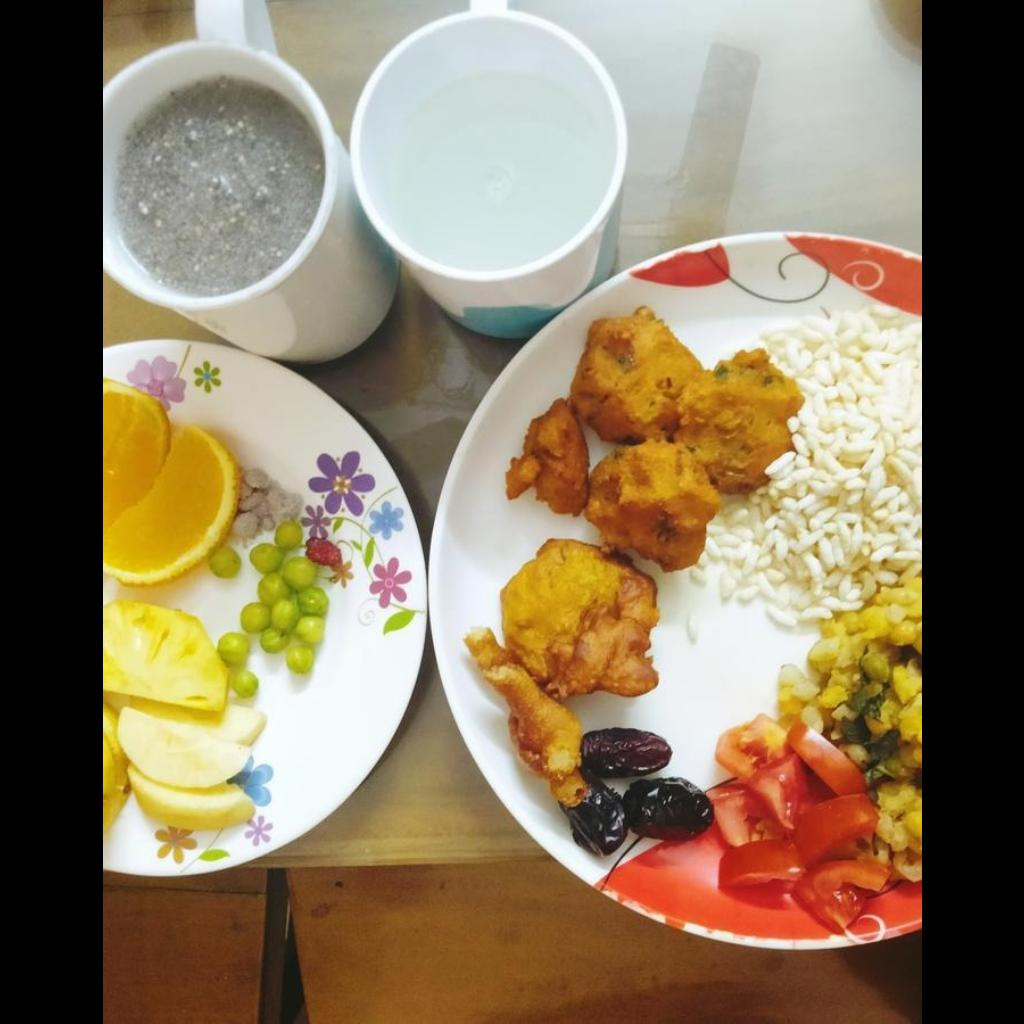apple: (102, 704, 256, 836)
chop-alu: (462, 535, 656, 810)
daal: (778, 576, 920, 878)
dates: (562, 728, 706, 856)
green-pea: (217, 520, 327, 699), (208, 544, 240, 578)
juice: (114, 85, 317, 293)
orange: (108, 381, 234, 574)
peyaju: (509, 305, 806, 566)
pineapple: (102, 599, 220, 713)
puffed-rice: (701, 316, 920, 617)
tomato: (704, 711, 894, 932)
